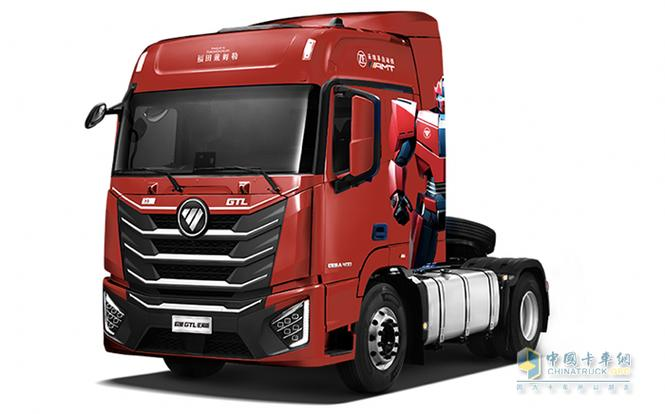卡车: (93, 10, 569, 381)
